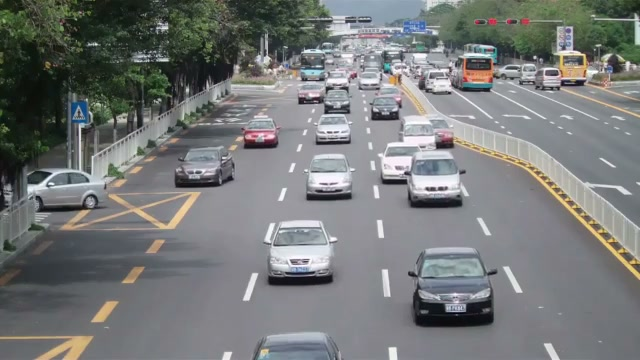bus: (451, 54, 494, 91), (300, 50, 326, 82)
car: (407, 246, 497, 326), (262, 219, 338, 285), (406, 149, 466, 207), (27, 169, 107, 212), (251, 331, 344, 360), (174, 146, 236, 187), (303, 152, 354, 200), (378, 142, 421, 184), (399, 118, 438, 151), (243, 117, 280, 149), (314, 113, 352, 144), (425, 116, 455, 149), (370, 96, 400, 120), (423, 70, 452, 94), (324, 89, 351, 113), (535, 67, 562, 91), (297, 82, 325, 105)
truck: (451, 54, 494, 92), (552, 51, 588, 85), (300, 50, 327, 82), (535, 66, 562, 91)
